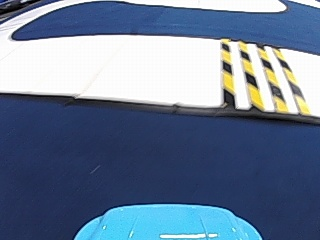bump: (206, 42, 302, 112)
